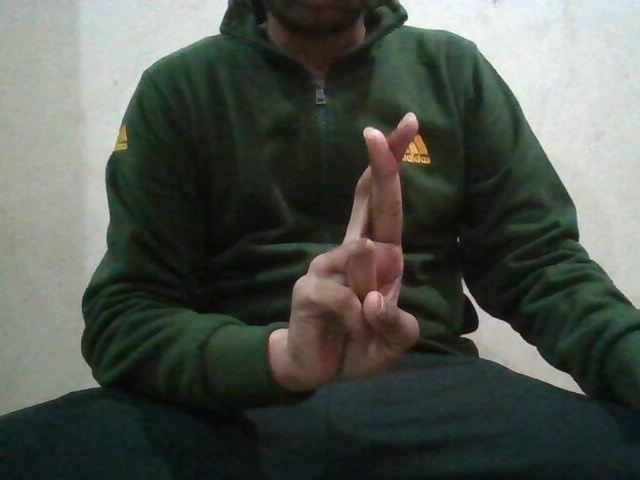R: (288, 120, 442, 381)
